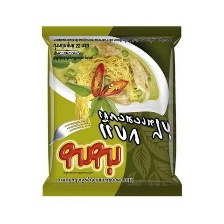snack: (34, 20, 189, 205)
